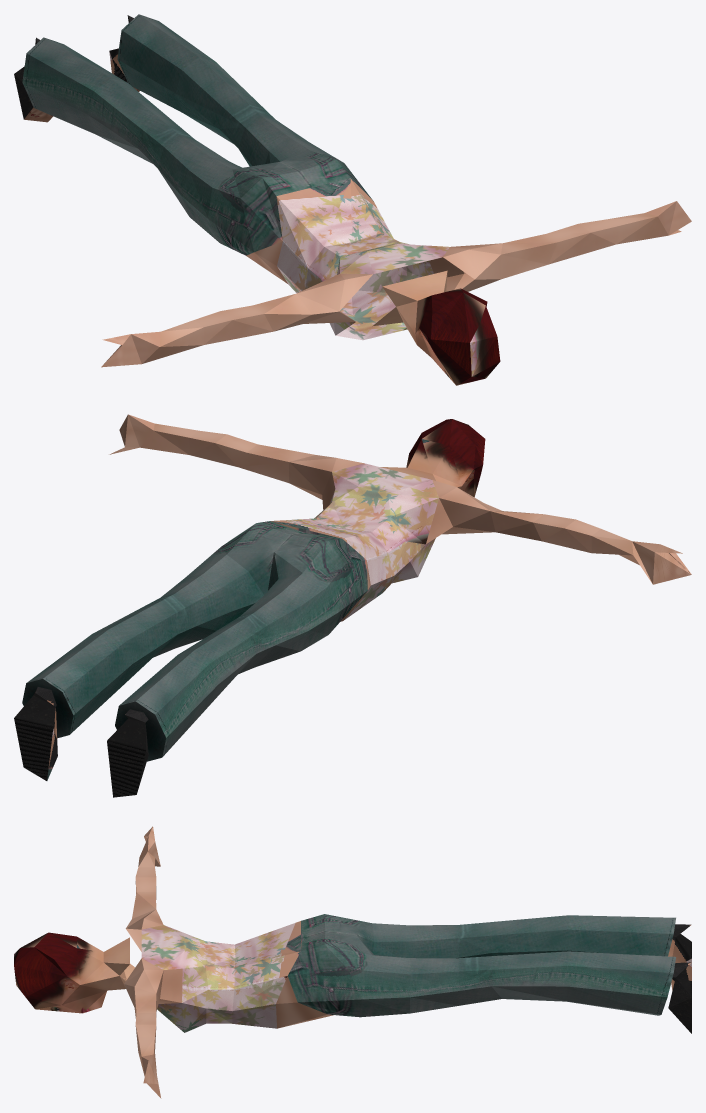
Rendered from tomdrinwoman1_3kredheadlow_wtf.obj.
3 views of the same model, one above another, from view 1: azimuth 30°, elevation 25°; view 2: azimuth 150°, elevation 25°; view 3: azimuth 270°, elevation 25° (orthographic). The views are drawn at different scales.
Parts seen in each view (by area): view 1: group1; view 2: group1; view 3: group1.
Part boxes in pixels (box(x1,y1,x2,y2)): group1: box(14, 14, 691, 385); group1: box(14, 414, 691, 797); group1: box(14, 826, 691, 1098).
Bounding box in the file's own units: 559 × 97.17 × 660.
